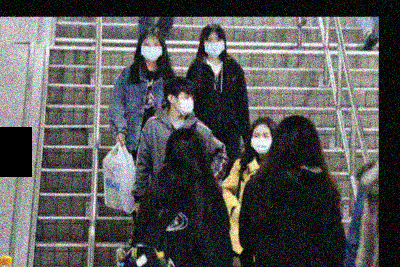with_mask: (250, 130, 273, 154), (139, 39, 163, 61), (203, 34, 225, 58), (175, 91, 194, 116)
